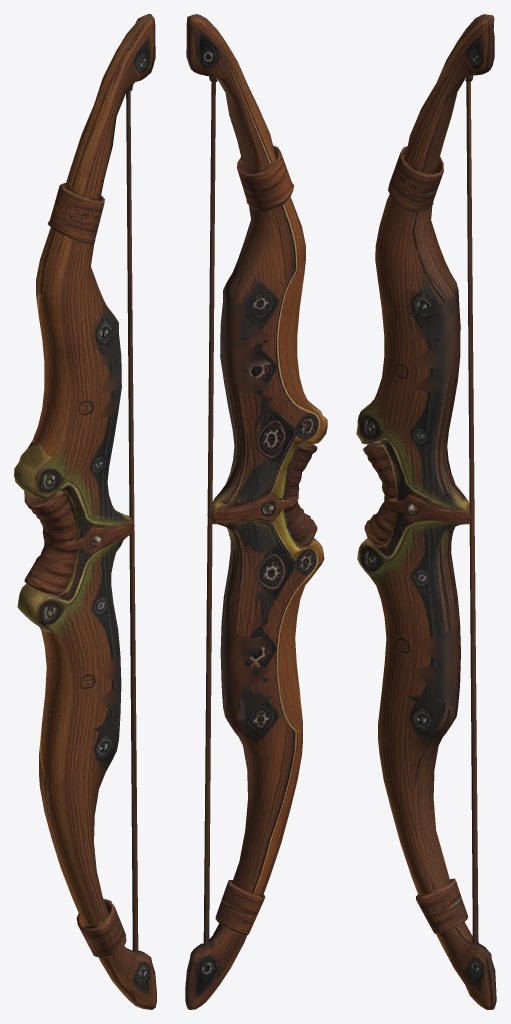
The model's file is short_bow.glb.
3 views of the same model, side by side, from view 1: azimuth 30°, elevation 25°; view 2: azimuth 210°, elevation 25°; view 3: azimuth 330°, elevation 25° (orthographic).
Bounding box in the file's own units: 0.1343 × 0.9512 × 0.0503.
1 material, 1 textured.
